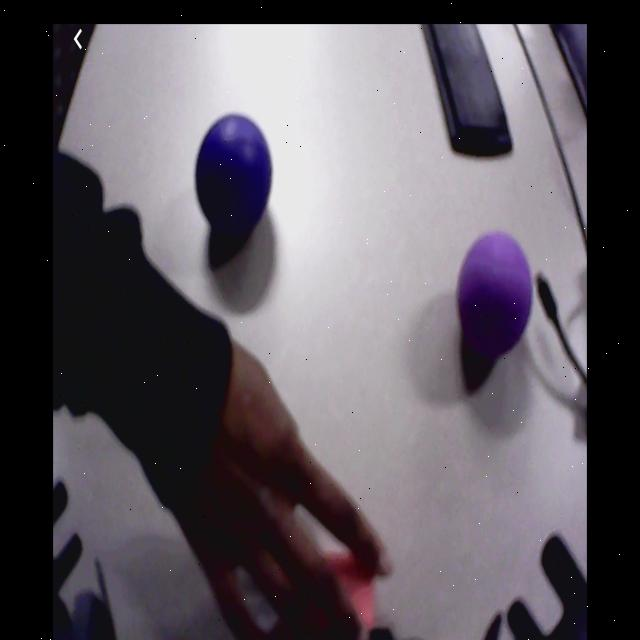ball: (458, 233, 534, 343), (197, 113, 273, 220)
